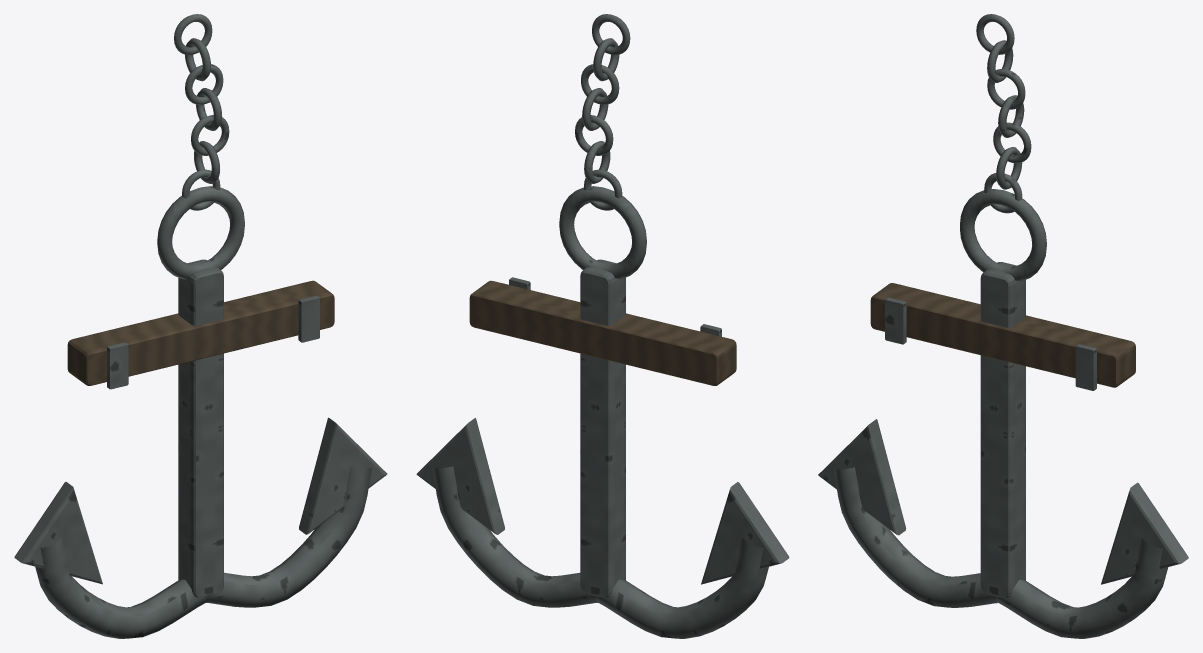
3 renders of one model, left to right at view 1: azimuth 30°, elevation 25°; view 2: azimuth 150°, elevation 25°; view 3: azimuth 330°, elevation 25°, orthographic.
Visible parts, largest first — view 1: forged iron, heartwood; view 2: forged iron, heartwood; view 3: forged iron, heartwood.
Boxes of the visible parts, bbox=[...] form: forged iron: bbox=[14, 14, 387, 638]; heartwood: bbox=[67, 280, 334, 385]; forged iron: bbox=[416, 14, 789, 638]; heartwood: bbox=[469, 280, 736, 385]; forged iron: bbox=[818, 14, 1188, 638]; heartwood: bbox=[870, 283, 1135, 387].
Size of the model in its own units: 0.8021 by 1.28 by 0.095.
2 materials, 2 textured.
